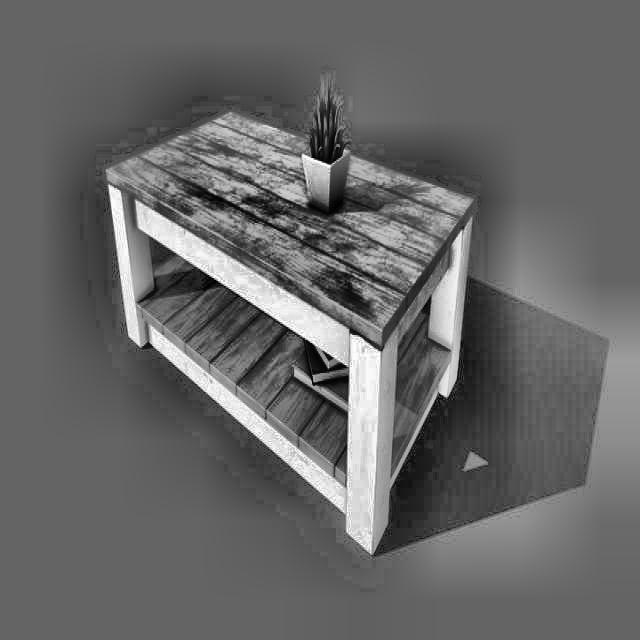mesa: (106, 105, 476, 559)
